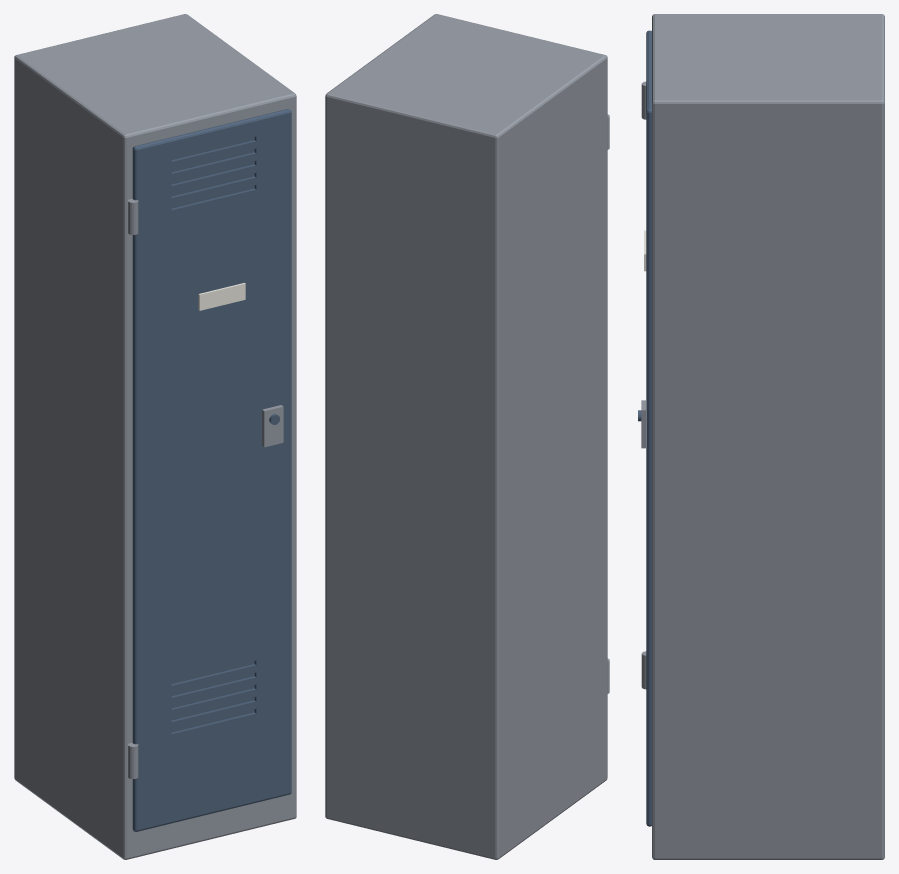
File: Casier.fbx
The picture shows the model from 3 angles, left to right: view 1: azimuth 30°, elevation 25°; view 2: azimuth 150°, elevation 25°; view 3: azimuth 270°, elevation 25°; orthographic projection. The views are drawn at different scales.
Parts seen in each view (by area): view 1: Casier_Body, Casier_Door, Casier_NameTag, Casier_LockPlate; view 2: Casier_Body; view 3: Casier_Body, Casier_Door.
Boxes of the visible parts, bbox=[...] form: Casier_Body: bbox=[14, 14, 296, 859]; Casier_Door: bbox=[132, 109, 291, 831]; Casier_NameTag: bbox=[198, 283, 245, 310]; Casier_LockPlate: bbox=[262, 405, 283, 447]; Casier_Body: bbox=[325, 14, 607, 859]; Casier_Body: bbox=[652, 14, 884, 859]; Casier_Door: bbox=[646, 30, 651, 826].
Bounding box in the file's own units: 0.45 × 1.8 × 0.53.
